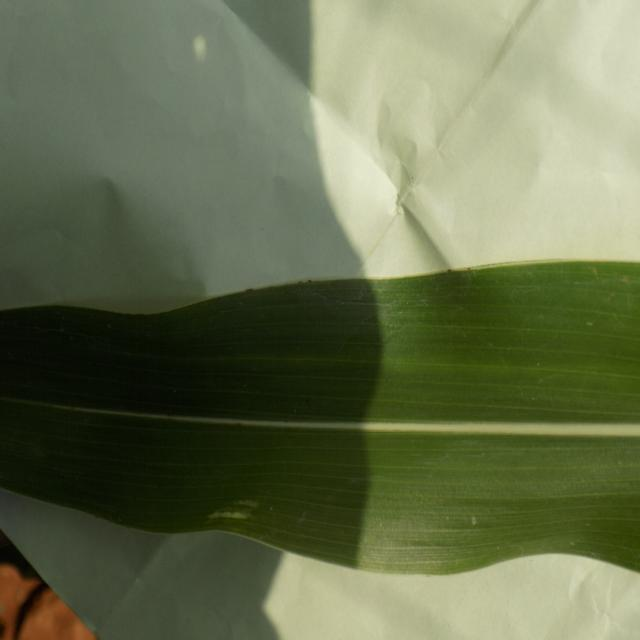millet_healthy: (0, 262, 640, 573)
